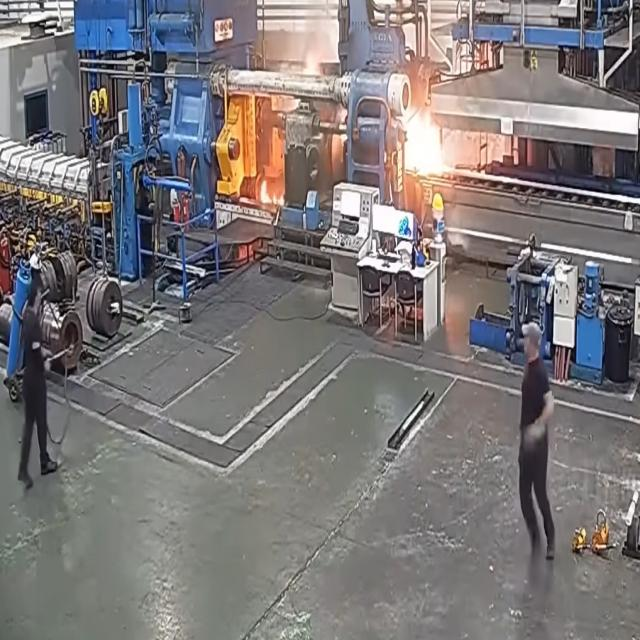standing: (518, 322, 555, 560), (18, 276, 57, 488)
